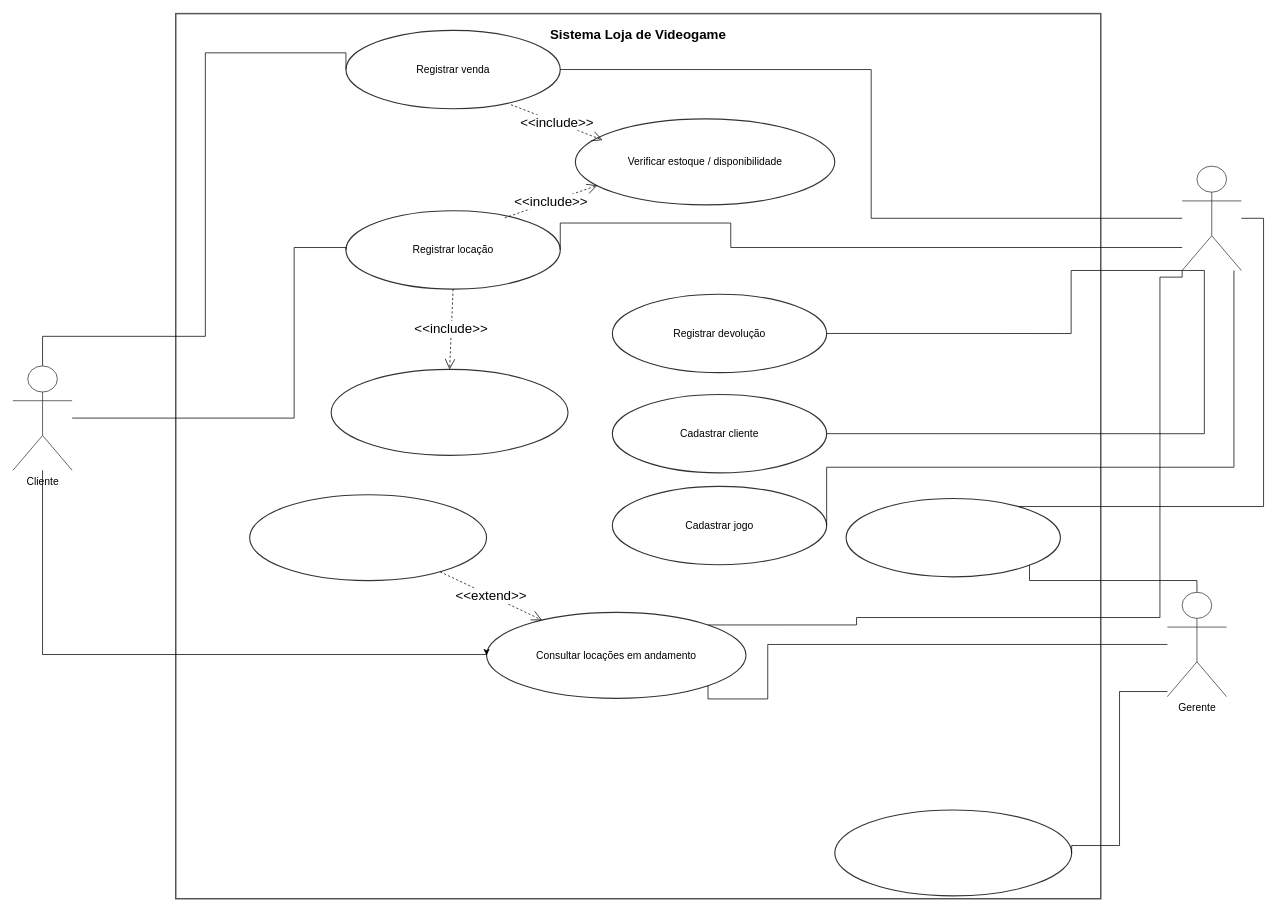
The diagram is 1277 pixels wide and 912 high, and some of its shapes have lost their labels. The box of each missing label's shape, as (x1, y1, x2, y2) in pixels:
Calcular valor da locação: (330, 369, 568, 456)
Consultar jogos: (845, 498, 1061, 577)
Funcionário: (1181, 165, 1241, 270)
Gerenciar jogos: (834, 809, 1072, 896)
Prorrogar prazo de devolução: (249, 494, 487, 581)
